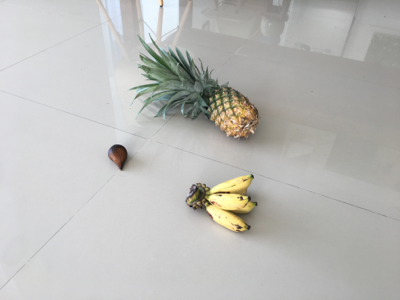banana: (186, 174, 257, 234)
pineapple: (129, 34, 259, 141)
snake fruit: (108, 145, 129, 171)
